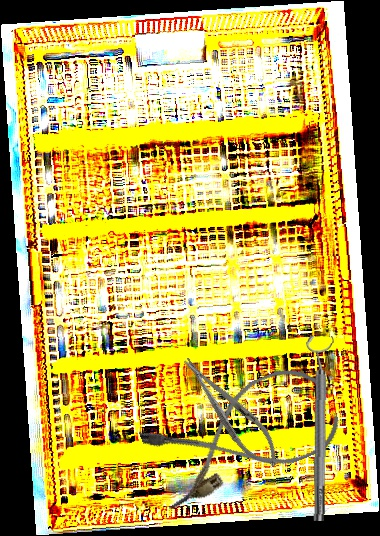Cannula: (136, 356, 348, 513)
Fixation Ring: (303, 335, 336, 522)
Needle Holder: (173, 348, 289, 476)
